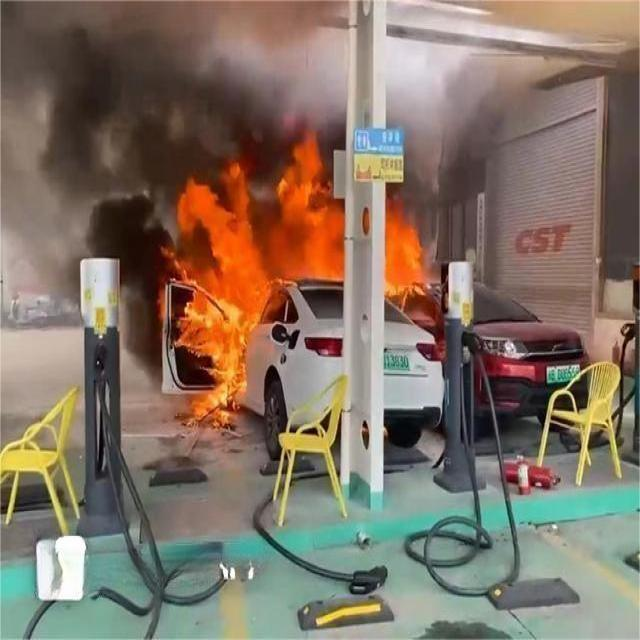Fire: (177, 162, 254, 420), (255, 134, 344, 292), (386, 210, 428, 294)
Smoke: (3, 0, 162, 260), (164, 0, 348, 120)
